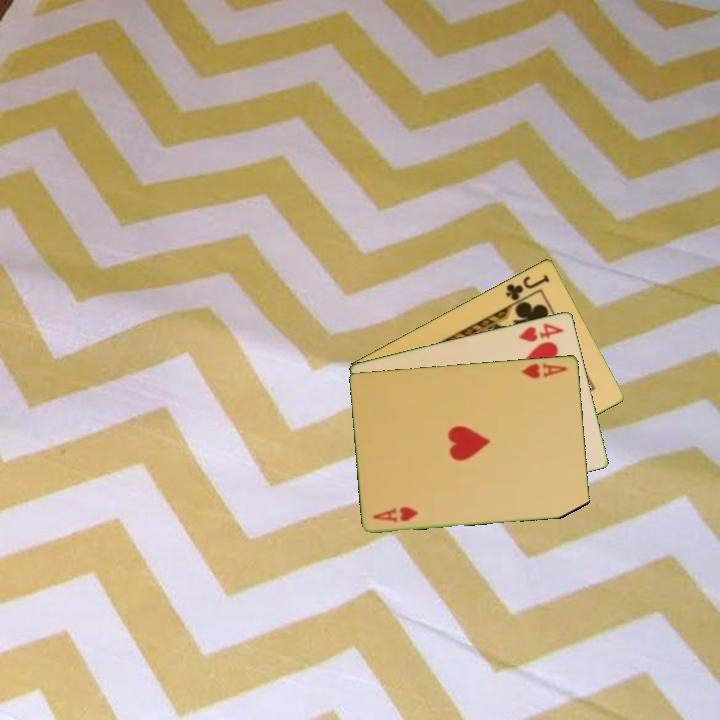4h: (515, 319, 567, 344)
Ah: (370, 503, 421, 526), (518, 360, 571, 381)
Jc: (502, 270, 553, 303)
